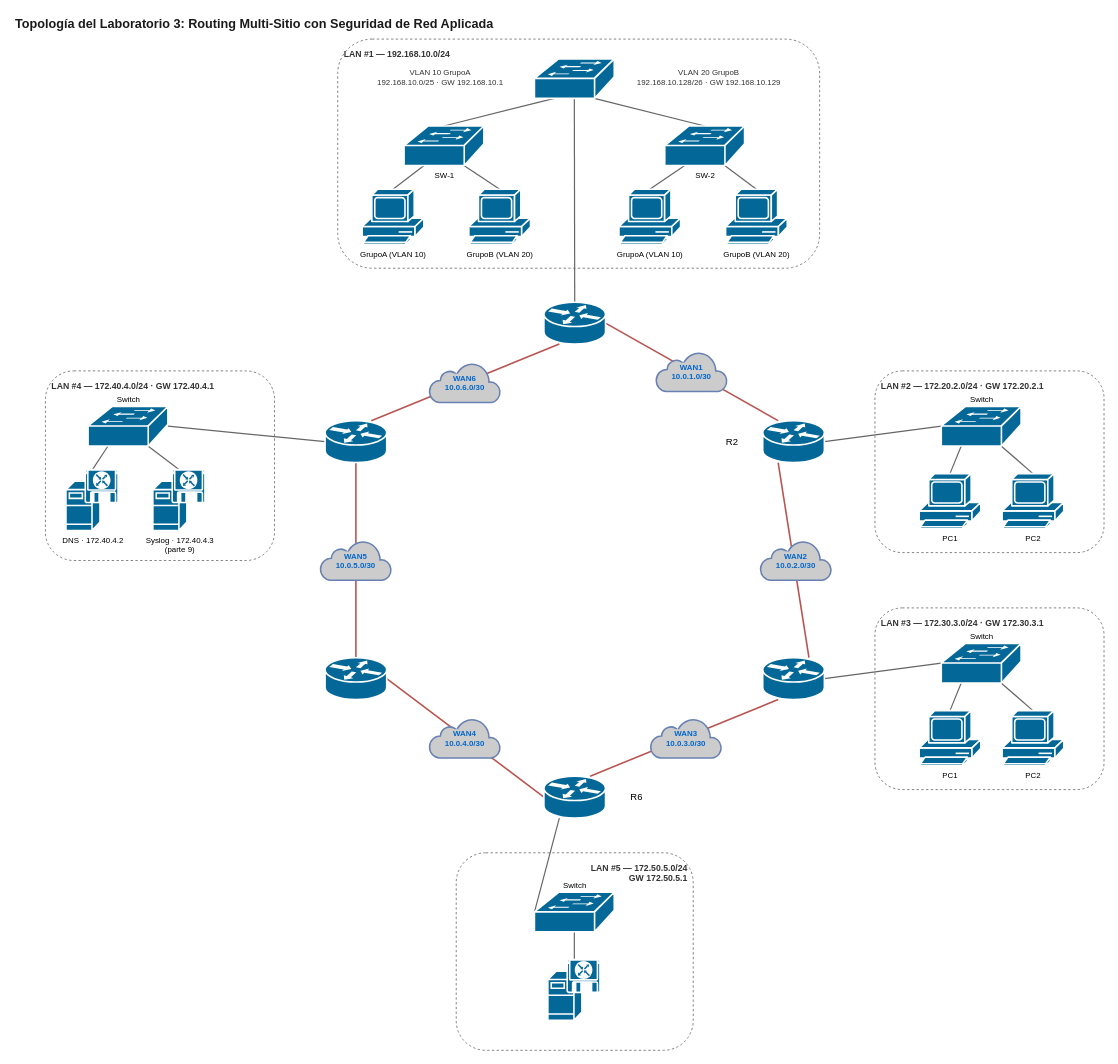
Image size: 1118x1064. Some labels were removed from this diagram. Here are the shapes that lost their labels. From the top down, the centre of each, then its label:
(x=574, y=78): SW-Central
(x=574, y=322): R1
(x=355, y=441): R3
(x=355, y=678): R5
(x=793, y=678): R4
(x=574, y=989): Web · 172.50.5.2
